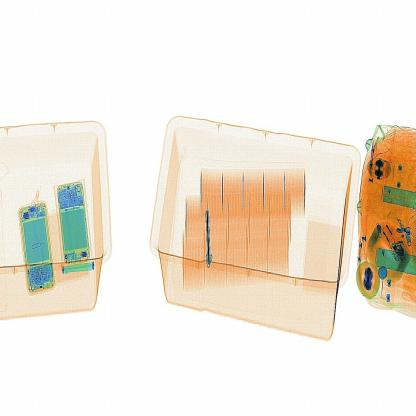knife: (204, 208, 214, 271)
